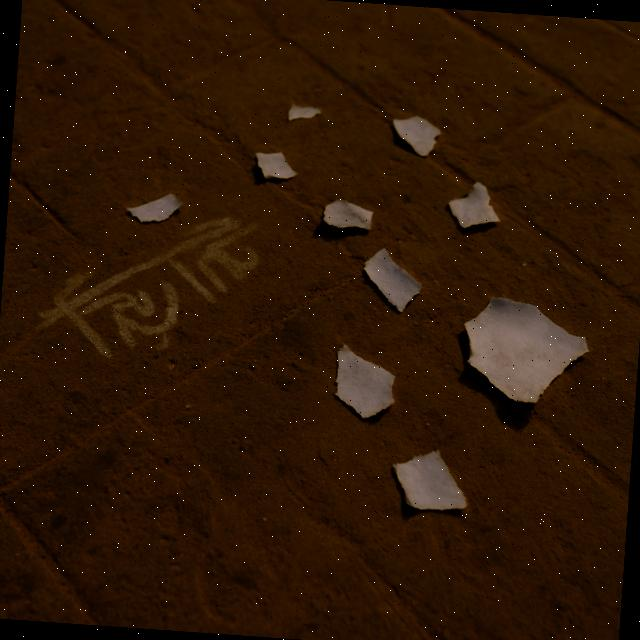paper: (455, 288, 593, 409), (330, 334, 404, 422), (392, 443, 472, 518), (359, 240, 431, 316), (445, 178, 505, 236), (388, 106, 442, 157), (318, 190, 374, 237), (124, 187, 184, 227), (251, 146, 300, 187)
